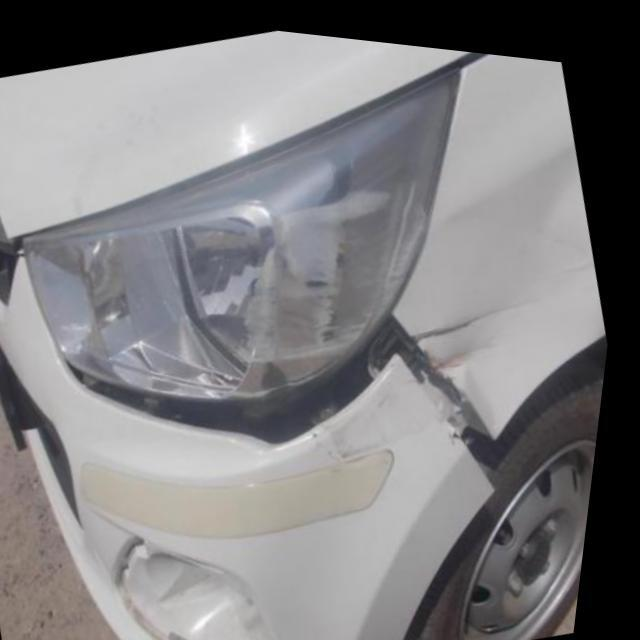dislocated part: (65, 284, 555, 481)
